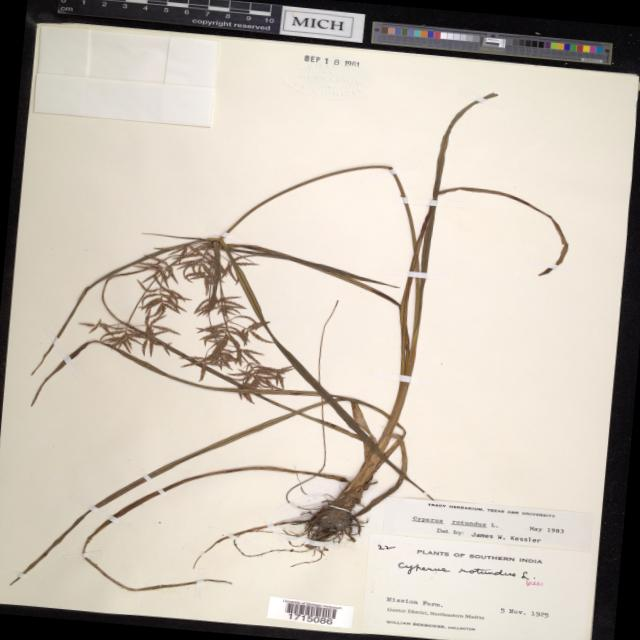cyperus: (64, 224, 306, 408)
